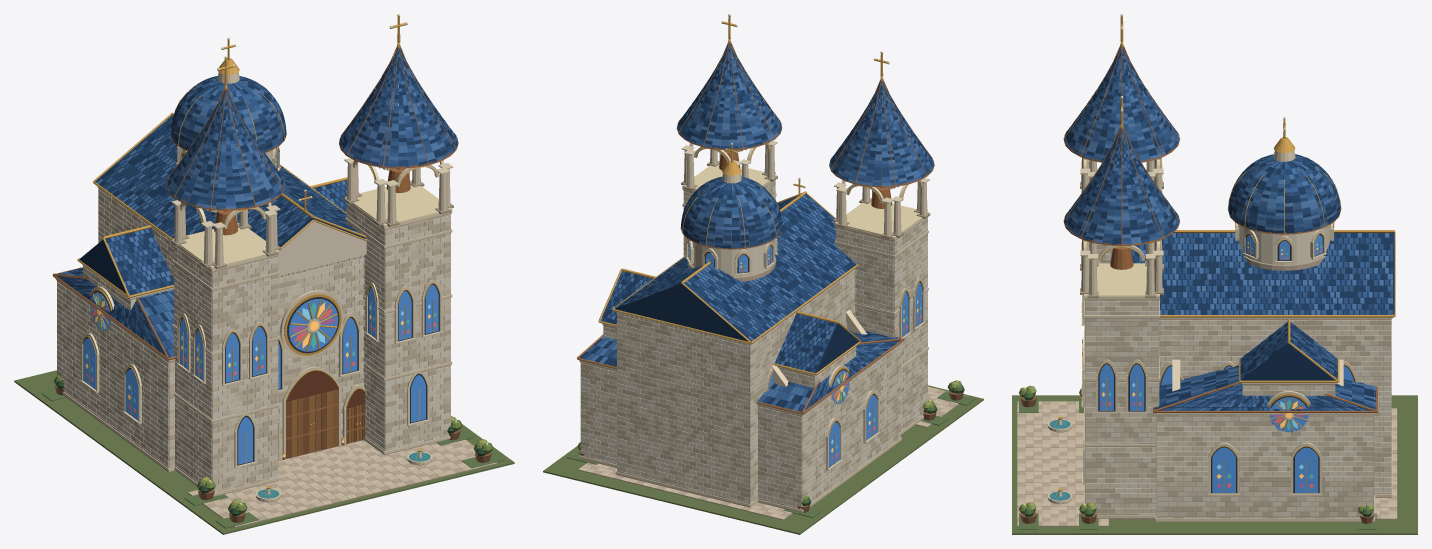
The model's file is church-nivel-8.glb.
The picture shows the model from 3 angles, left to right: view 1: azimuth 30°, elevation 25°; view 2: azimuth 150°, elevation 25°; view 3: azimuth 270°, elevation 25°; orthographic projection. The views are drawn at different scales.
Parts seen in each view (by area): view 1: Igreja 08 #e8dcc5, Igreja 08 #e6d7ba, Igreja 08 #ded1b9, Igreja 08 #cec1a8, Igreja 08 #1b385b, Igreja 08 #eae1ce, Igreja 08 #4670a0, Igreja 08 #234771, Igreja 08 #406c9f, Igreja 08 #355f90, Igreja 08 #2e5481, Igreja 08 #6c7d4e (+14 smaller); view 2: Igreja 08 #1b385b, Igreja 08 #ded1b9, Igreja 08 #e8dcc5, Igreja 08 #cec1a8, Igreja 08 #eae1ce, Igreja 08 #4670a0, Igreja 08 #e6d7ba, Igreja 08 #355f90, Igreja 08 #234771, Igreja 08 #2e5481, Igreja 08 #6c7d4e, Igreja 08 #d5a452 (+9 smaller); view 3: Igreja 08 #1b385b, Igreja 08 #e8dcc5, Igreja 08 #eae1ce, Igreja 08 #ded1b9, Igreja 08 #cec1a8, Igreja 08 #4670a0, Igreja 08 #2e5481, Igreja 08 #e6d7ba, Igreja 08 #355f90, Igreja 08 #234771, Igreja 08 #6c7d4e, Igreja 08 #b3a390 (+12 smaller).
Part boxes in pixels (bbox=[...]): Igreja 08 #e8dcc5: bbox=[57, 148, 450, 490]; Igreja 08 #e6d7ba: bbox=[55, 72, 453, 501]; Igreja 08 #ded1b9: bbox=[57, 167, 450, 491]; Igreja 08 #cec1a8: bbox=[57, 194, 450, 488]; Igreja 08 #1b385b: bbox=[58, 50, 457, 355]; Igreja 08 #eae1ce: bbox=[57, 189, 450, 492]; Igreja 08 #4670a0: bbox=[61, 48, 457, 350]; Igreja 08 #234771: bbox=[57, 47, 457, 357]; Igreja 08 #406c9f: bbox=[83, 150, 438, 464]; Igreja 08 #355f90: bbox=[60, 48, 455, 356]; Igreja 08 #2e5481: bbox=[59, 48, 454, 354]; Igreja 08 #6c7d4e: bbox=[14, 370, 514, 534]; Igreja 08 #1b385b: bbox=[579, 44, 927, 410]; Igreja 08 #ded1b9: bbox=[580, 149, 927, 509]; Igreja 08 #e8dcc5: bbox=[580, 180, 927, 506]; Igreja 08 #cec1a8: bbox=[580, 181, 927, 505]; Igreja 08 #eae1ce: bbox=[580, 185, 927, 509]; Igreja 08 #4670a0: bbox=[590, 44, 933, 410]; Igreja 08 #e6d7ba: bbox=[579, 141, 929, 512]; Igreja 08 #355f90: bbox=[586, 46, 933, 405]; Igreja 08 #234771: bbox=[581, 43, 933, 412]; Igreja 08 #2e5481: bbox=[586, 44, 932, 408]; Igreja 08 #6c7d4e: bbox=[543, 385, 983, 534]; Igreja 08 #d5a452: bbox=[598, 17, 923, 463]; Igreja 08 #1b385b: bbox=[1064, 48, 1394, 410]; Igreja 08 #e8dcc5: bbox=[1084, 224, 1391, 518]; Igreja 08 #eae1ce: bbox=[1084, 249, 1391, 518]; Igreja 08 #ded1b9: bbox=[1083, 158, 1392, 518]; Igreja 08 #cec1a8: bbox=[1084, 242, 1391, 518]; Igreja 08 #4670a0: bbox=[1064, 47, 1392, 410]; Igreja 08 #2e5481: bbox=[1065, 47, 1392, 410]; Igreja 08 #e6d7ba: bbox=[1048, 150, 1392, 521]; Igreja 08 #355f90: bbox=[1065, 48, 1392, 410]; Igreja 08 #234771: bbox=[1064, 47, 1392, 410]; Igreja 08 #6c7d4e: bbox=[1012, 395, 1417, 534]; Igreja 08 #b3a390: bbox=[1085, 245, 1390, 518].
Size of the model in its own units: 20.75 by 28.79 by 25.77.
